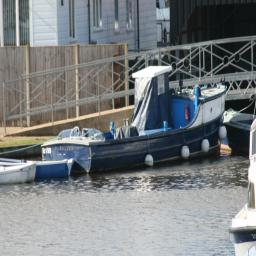tugboat: (40, 65, 230, 179)
